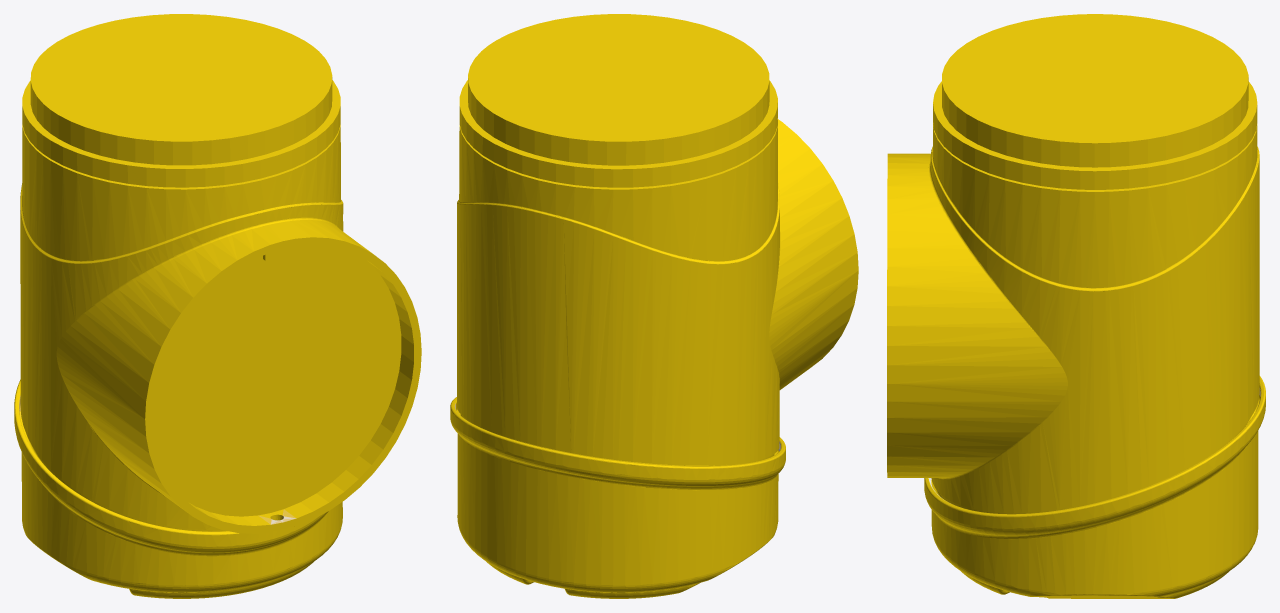
Rendered from AuboI5Link4.dae.
3 renders of one model, left to right at view 1: azimuth 30°, elevation 25°; view 2: azimuth 150°, elevation 25°; view 3: azimuth 270°, elevation 25°, orthographic.
Visible parts, largest first — view 1: Auboi5Link4; view 2: Auboi5Link4; view 3: Auboi5Link4.
Boxes of the visible parts, x1=… form: Auboi5Link4: x1=14, y1=14, x2=421, y2=598; Auboi5Link4: x1=450, y1=14, x2=858, y2=598; Auboi5Link4: x1=887, y1=14, x2=1265, y2=598.
Bounding box in the file's own units: 0.079 × 0.0876 × 0.1203.
